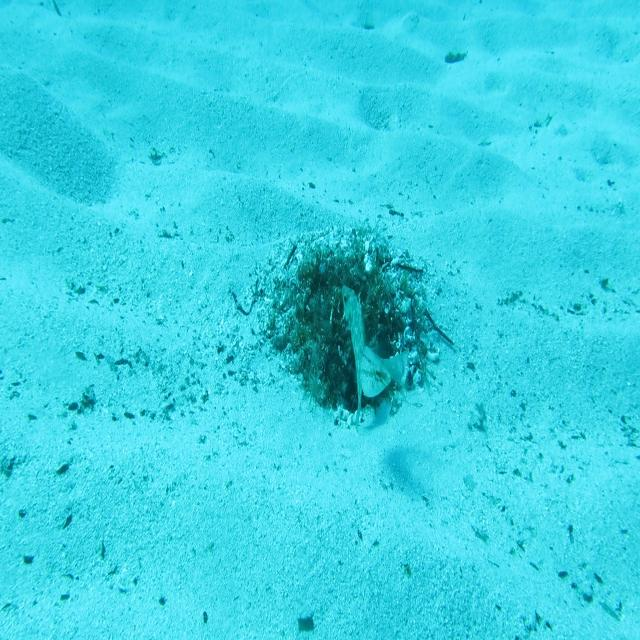FAN: (341, 284, 368, 435)
core_nest: (320, 271, 364, 309)
female: (358, 339, 412, 400)
nest: (252, 210, 450, 441)
vegetation: (444, 48, 468, 66)
